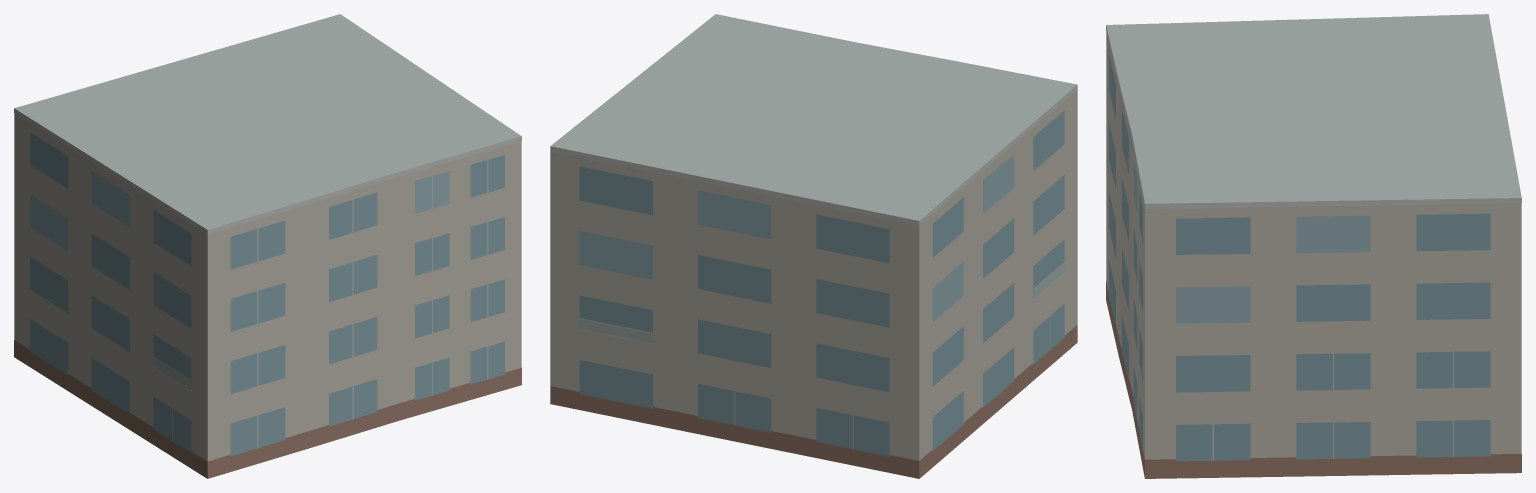
File: survey-upis-32967673.glb
The picture shows the model from 3 angles, left to right: view 1: azimuth 30°, elevation 25°; view 2: azimuth 150°, elevation 25°; view 3: azimuth 270°, elevation 25°; orthographic projection. The views are drawn at different scales.
Visible parts, largest first — view 1: survey-upis-32967673.tmp; view 2: survey-upis-32967673.tmp; view 3: survey-upis-32967673.tmp.
Part boxes in pixels (x1,y1,x2,y2): survey-upis-32967673.tmp: (14, 14, 521, 478); survey-upis-32967673.tmp: (550, 14, 1077, 478); survey-upis-32967673.tmp: (1106, 14, 1521, 478).
Size of the model in its own units: 18.96 by 12.8 by 17.54.
